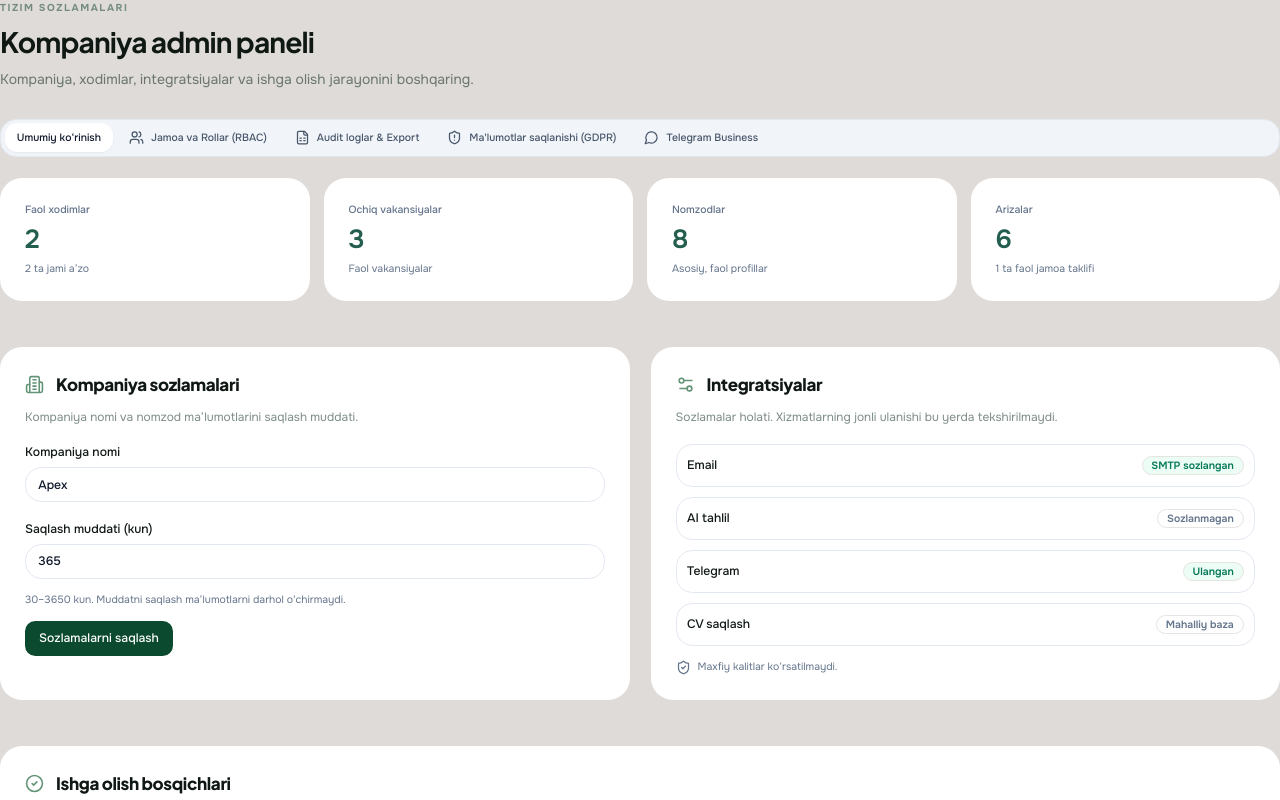
Test: Settings Hub (RBAC, Audit Logs, Retention, Telegram) › invites every member as HR without a role choice, and picks the retention period from an accordion
The width and height of the screenshot is (1280, 800).
Click the tab "Jamoa va Rollar (RBAC)" at point(198, 138), box 117,123 -> 279,152
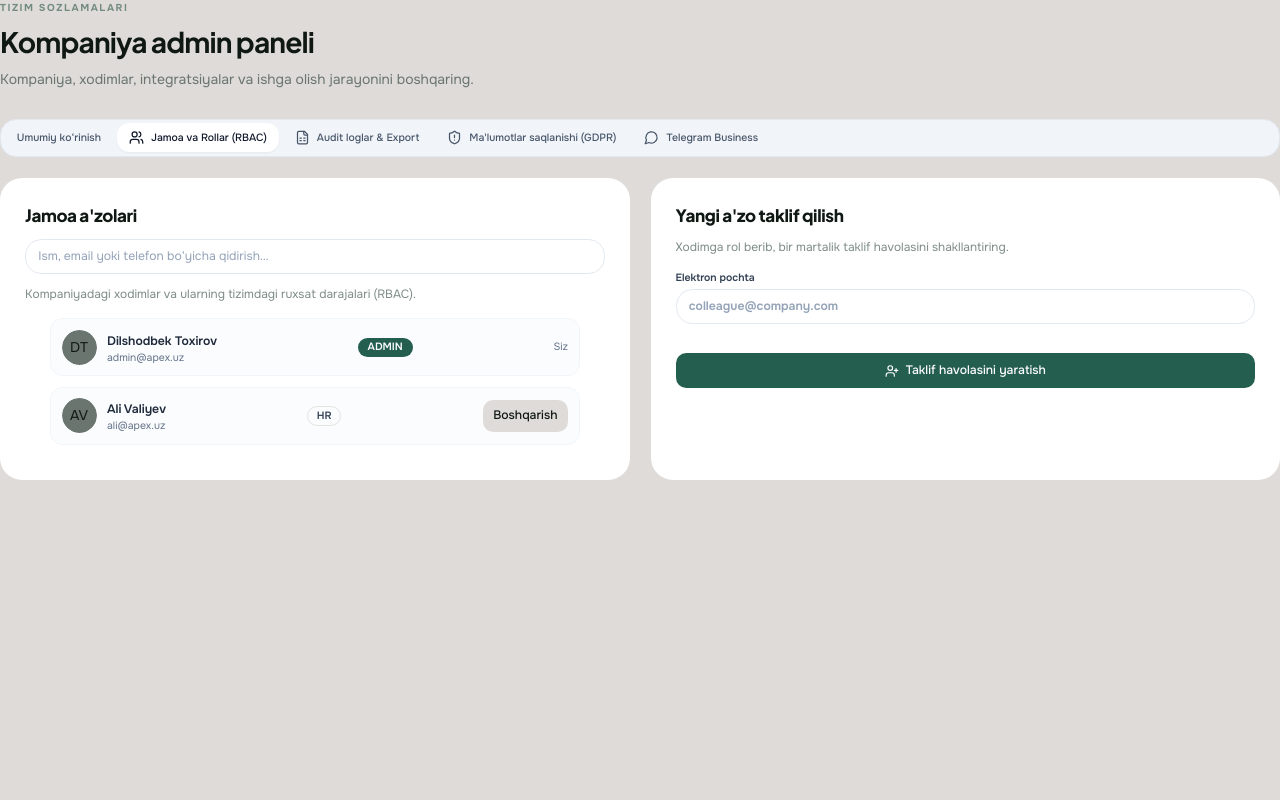
Expected: the button "Taklif havolasini yaratish" is shown, 676,354 -> 1255,388
Click the tab "Ma'lumotlar saqlanishi (GDPR)" at point(532, 138), box 435,123 -> 629,152
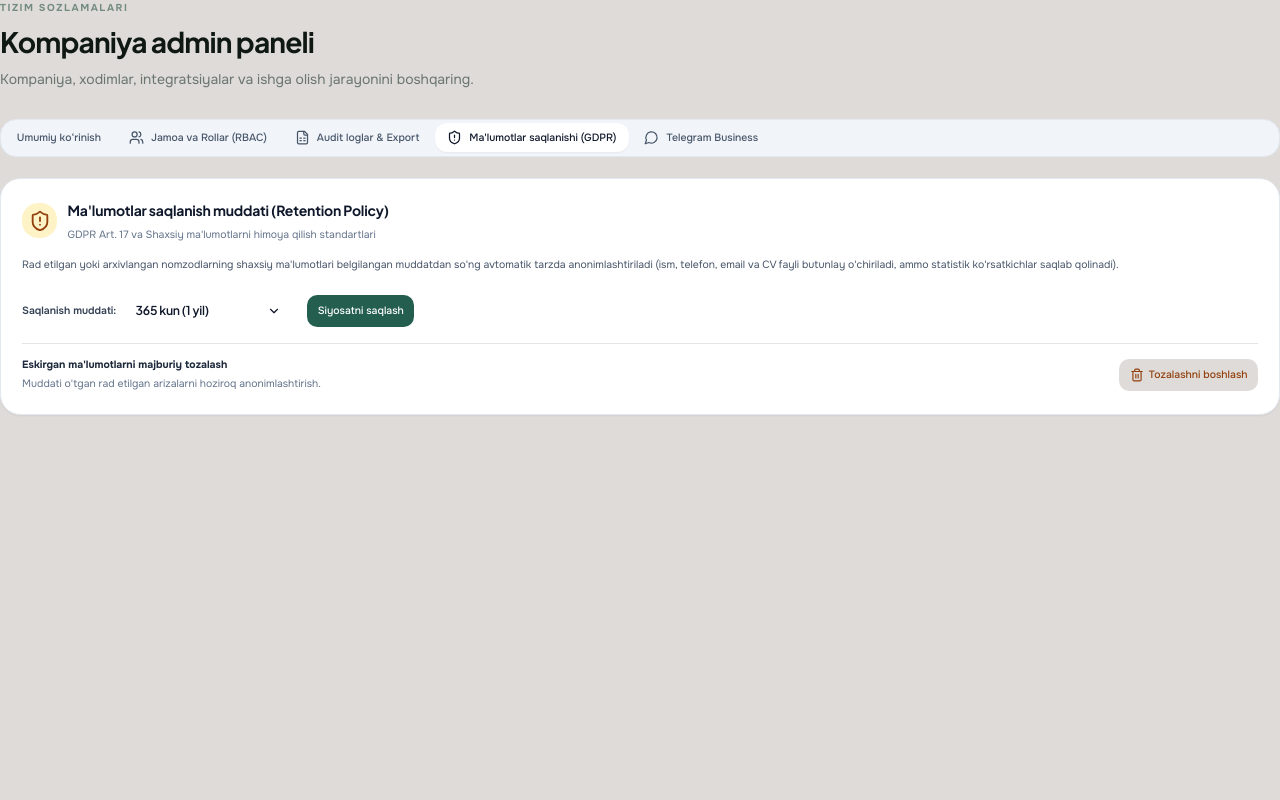
Expected: the button with aria-label "Saqlanish muddati" shows "365"
Click the button with aria-label "Saqlanish muddati" at point(208, 311), box 123,294 -> 293,329
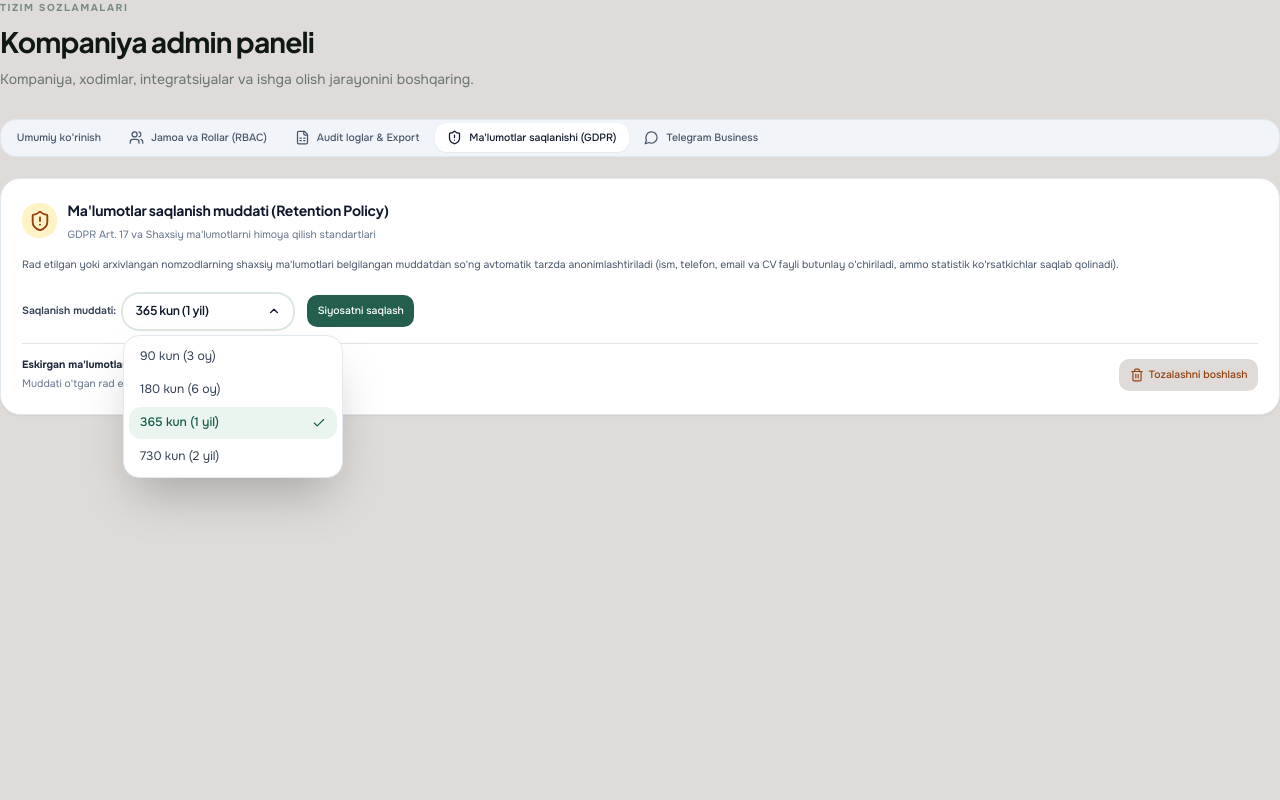
Click the option "90 kun (3 oy)" at point(233, 357), box 130,341 -> 337,372
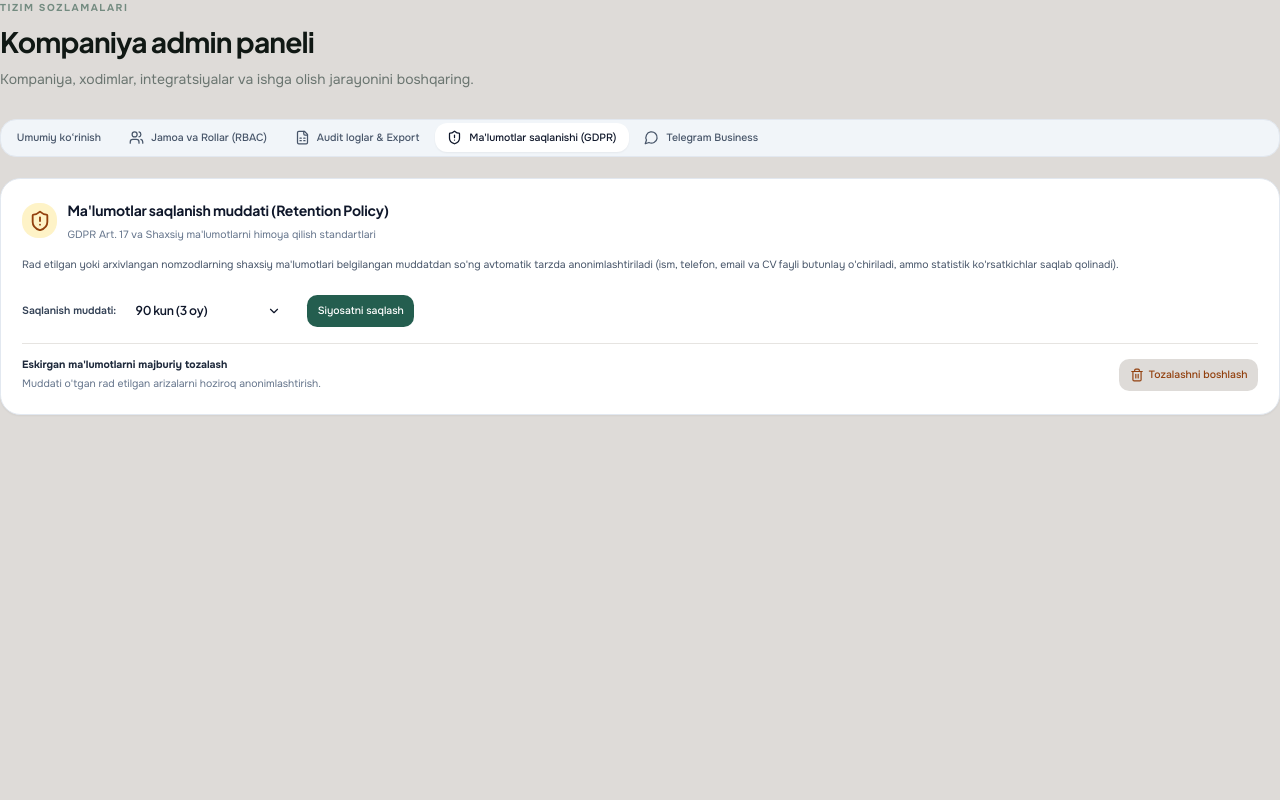
Expected: the button with aria-label "Saqlanish muddati" shows "90", 123,294 -> 293,329
